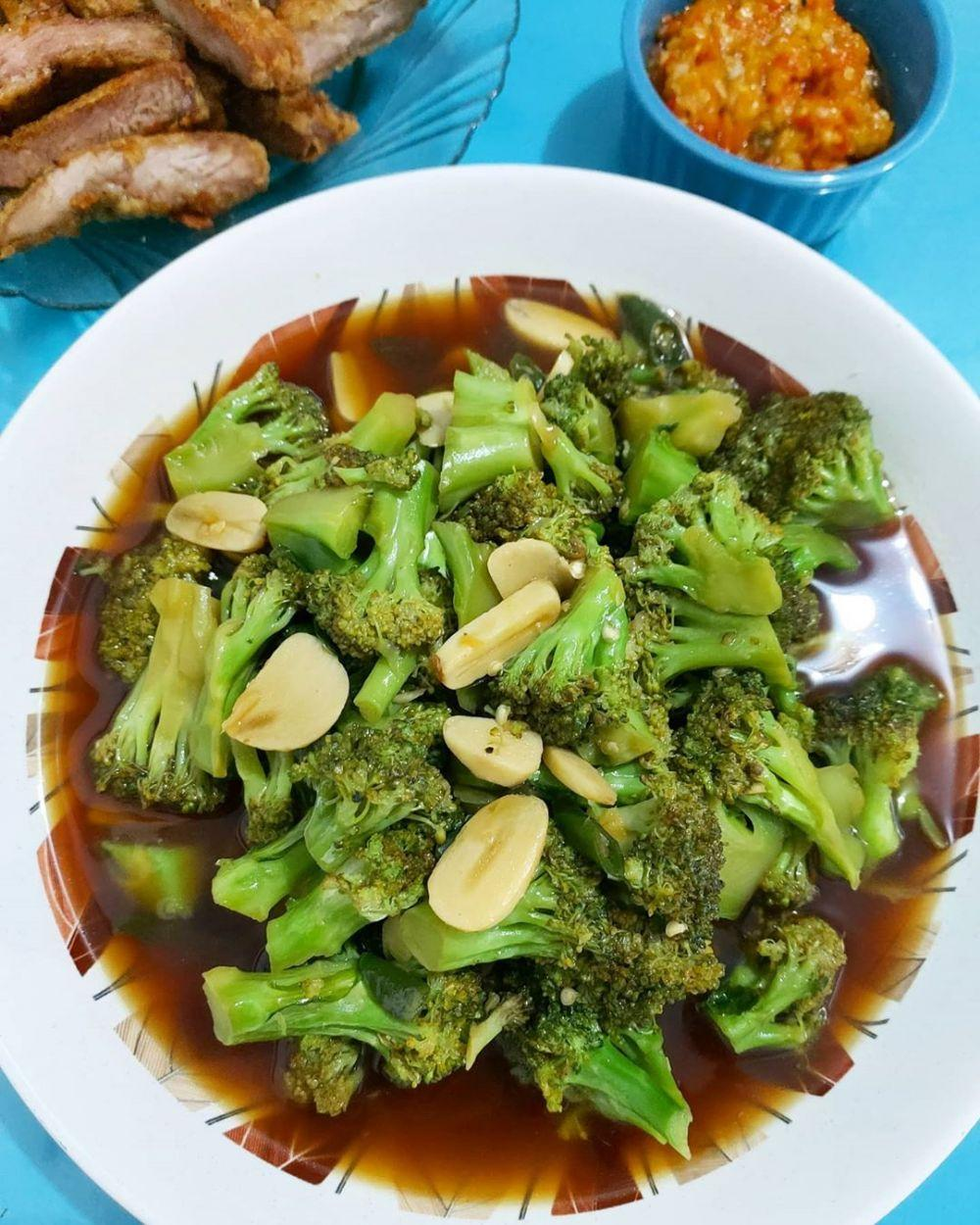buah_sayur_lainnya: (229, 435, 815, 1062)
